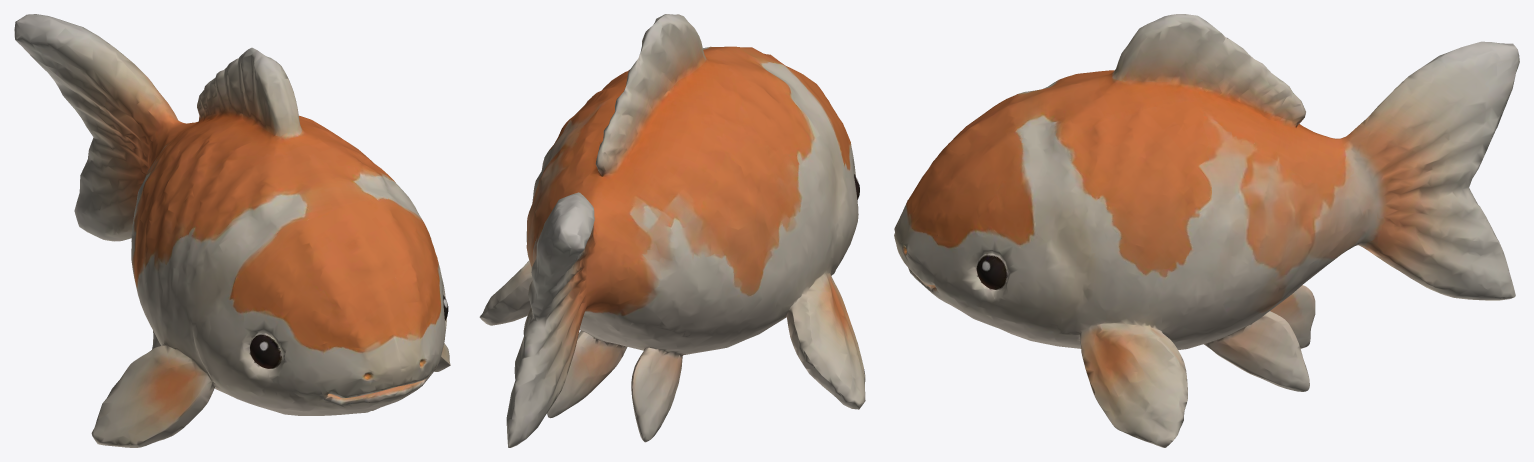
The model's file is nat_fish_koi_v1.glb.
3 views of the same model, side by side, from view 1: azimuth 30°, elevation 25°; view 2: azimuth 150°, elevation 25°; view 3: azimuth 270°, elevation 25° (orthographic). The views are drawn at different scales.
Parts seen in each view (by area): view 1: tripo_node_770e0e48-3d9c-4b09-9657-36ec8a8f3ebc; view 2: tripo_node_770e0e48-3d9c-4b09-9657-36ec8a8f3ebc; view 3: tripo_node_770e0e48-3d9c-4b09-9657-36ec8a8f3ebc.
Part boxes in pixels (x1,y1,x2,y2): tripo_node_770e0e48-3d9c-4b09-9657-36ec8a8f3ebc: [14, 14, 450, 447]; tripo_node_770e0e48-3d9c-4b09-9657-36ec8a8f3ebc: [479, 14, 865, 447]; tripo_node_770e0e48-3d9c-4b09-9657-36ec8a8f3ebc: [894, 14, 1519, 447].
Bounding box in the file's own units: 0.6554 × 0.618 × 0.9805.
Materials: 1 (1 with a texture image).
